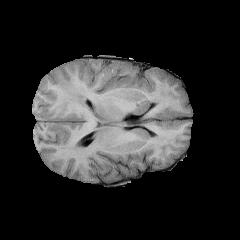glioma: (52, 69, 95, 161)
